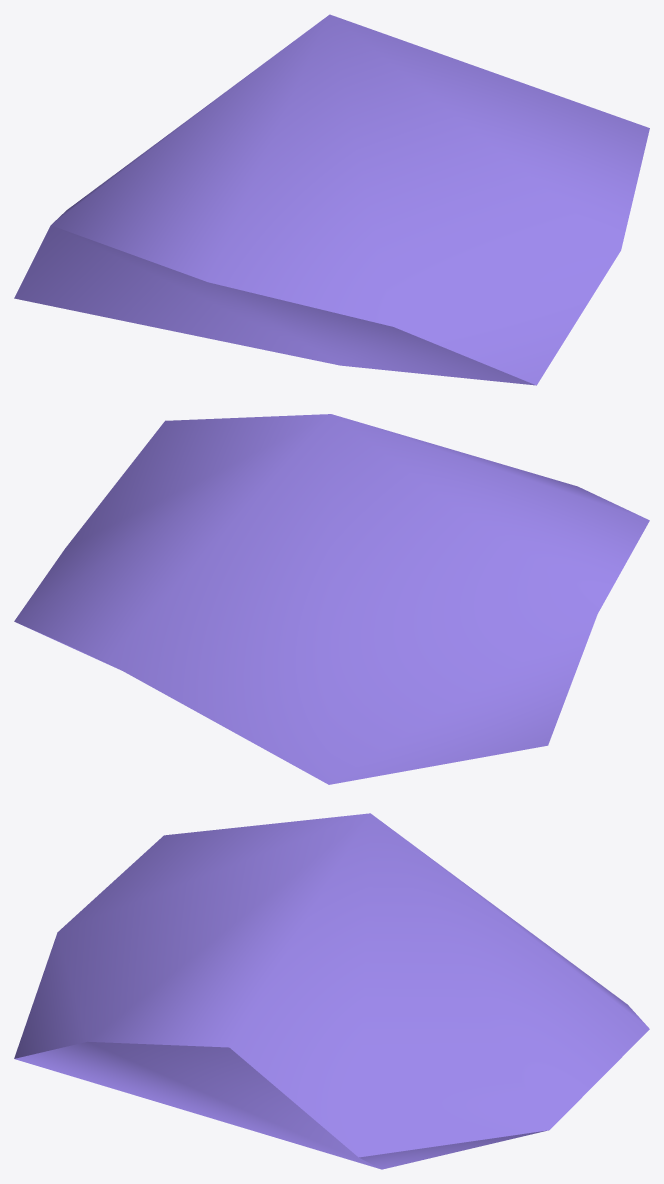
The model's file is quernstone_rock1_low.glb.
3 renders of one model, top to bottom at view 1: azimuth 30°, elevation 25°; view 2: azimuth 150°, elevation 25°; view 3: azimuth 270°, elevation 25°, orthographic. The views are drawn at different scales.
Visible parts, largest first — view 1: Icosphere; view 2: Icosphere; view 3: Icosphere.
Boxes of the visible parts, x1,y1,x2,y2 form: Icosphere: (14, 14, 649, 385); Icosphere: (14, 414, 649, 784); Icosphere: (14, 813, 649, 1169).
Bounding box in the file's own units: 0.4895 × 0.2975 × 0.492.
